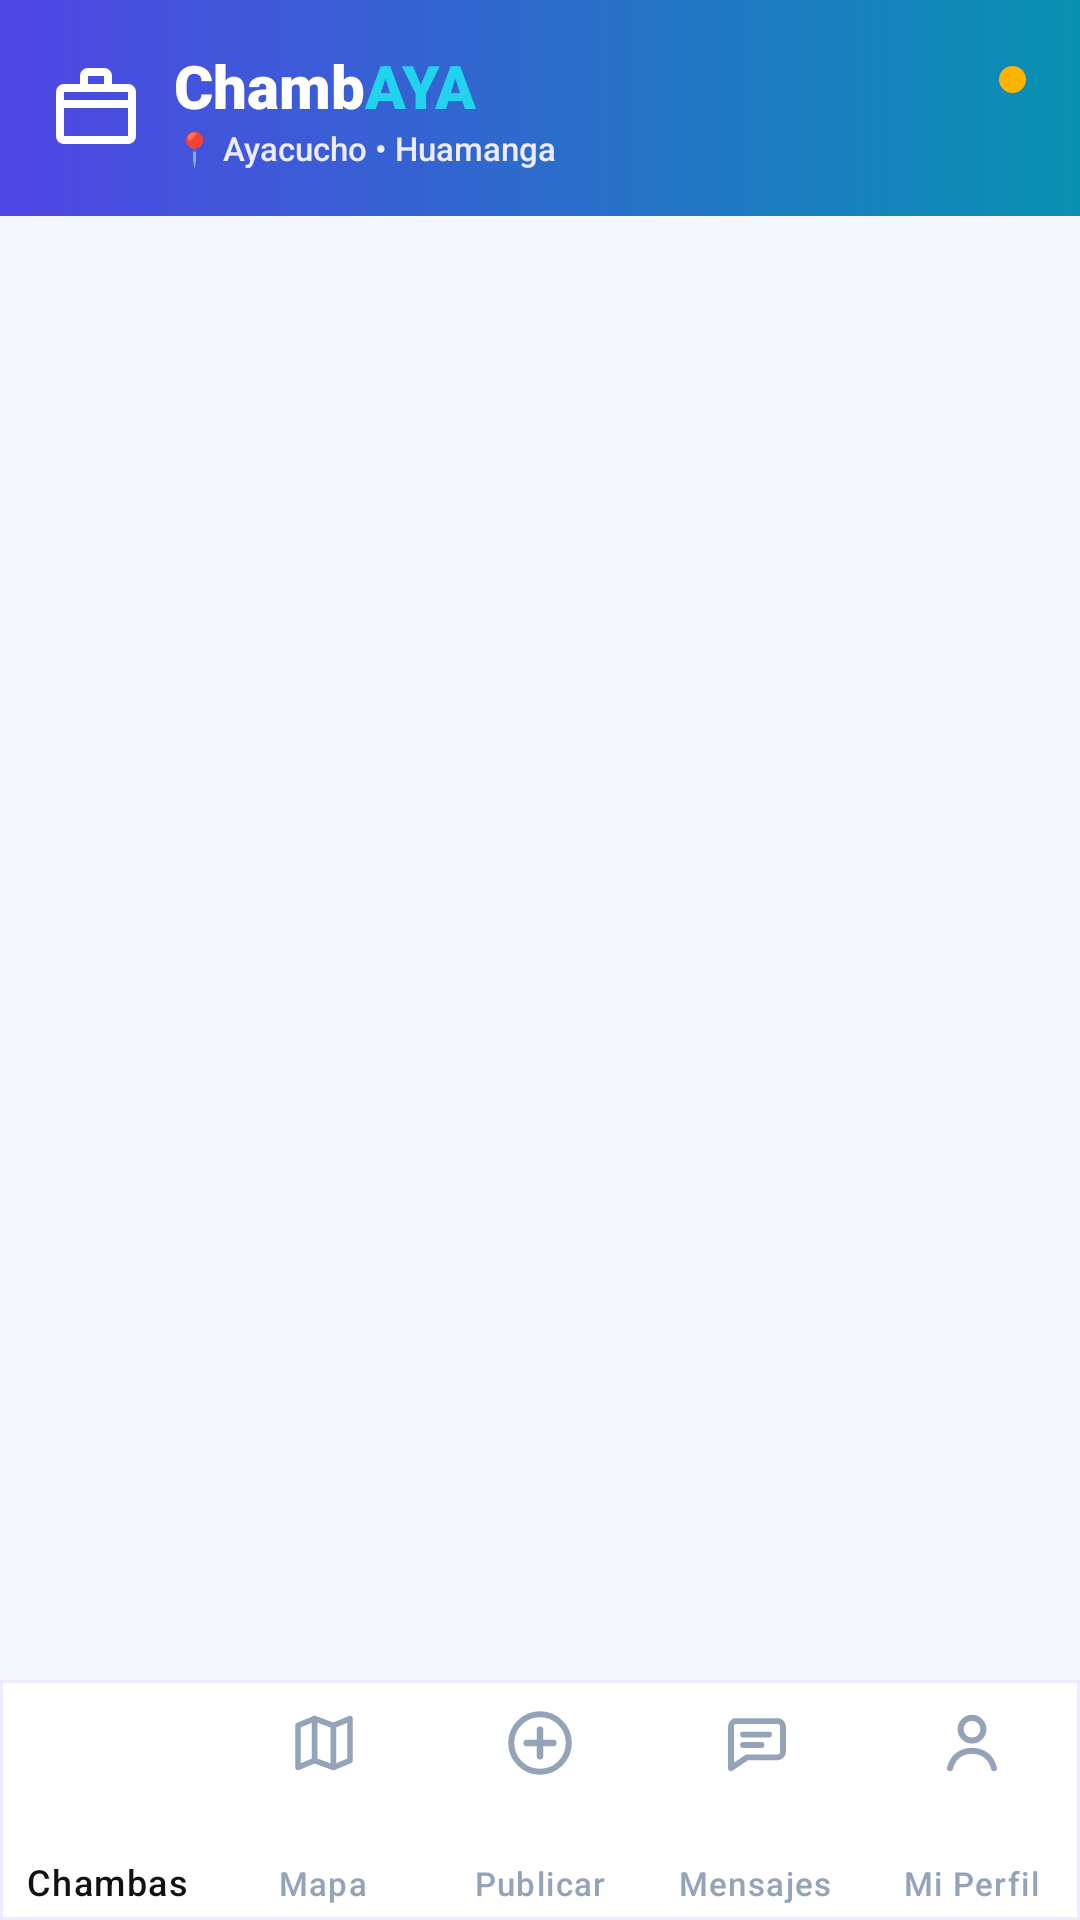

Locate icon controls on the screen. Image size 1080 × 1920, boxes as (left=x1, top=y1, right=x2, bottom=y2).
work: (left=56, top=68, right=136, bottom=144)
